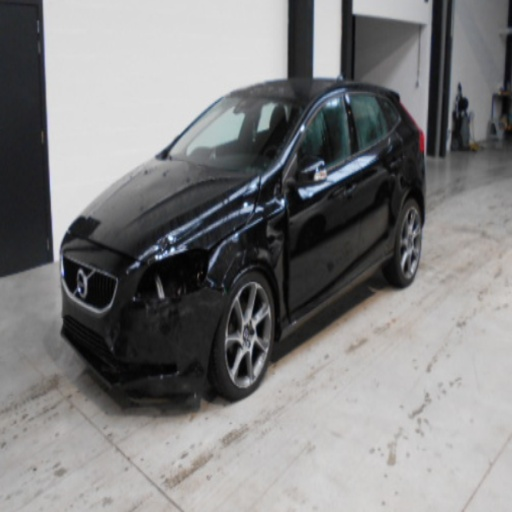dent: (241, 216, 287, 270), (239, 171, 286, 215), (114, 298, 147, 360), (182, 356, 206, 379), (153, 233, 172, 259), (209, 240, 223, 268), (108, 321, 115, 342), (230, 231, 240, 243)
scratch: (220, 255, 236, 291), (110, 343, 112, 352)
